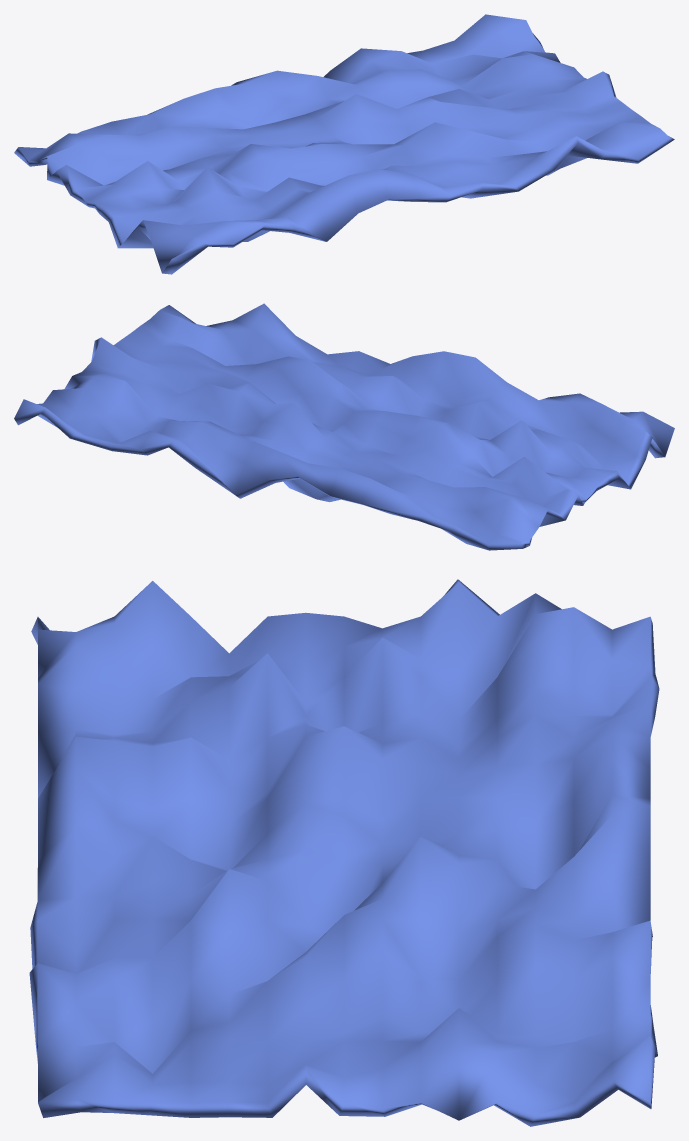
File: Cutton.fbx
3 views of the same model, one above another, from view 1: azimuth 30°, elevation 25°; view 2: azimuth 150°, elevation 25°; view 3: azimuth 270°, elevation 25° (orthographic). The views are drawn at different scales.
Parts seen in each view (by area): view 1: Plane; view 2: Plane; view 3: Plane.
Part boxes in pixels (bbox=[...]): Plane: bbox=[14, 14, 674, 274]; Plane: bbox=[14, 303, 674, 550]; Plane: bbox=[29, 579, 659, 1126].
Bounding box in the file's own units: 1565 × 197 × 829.
